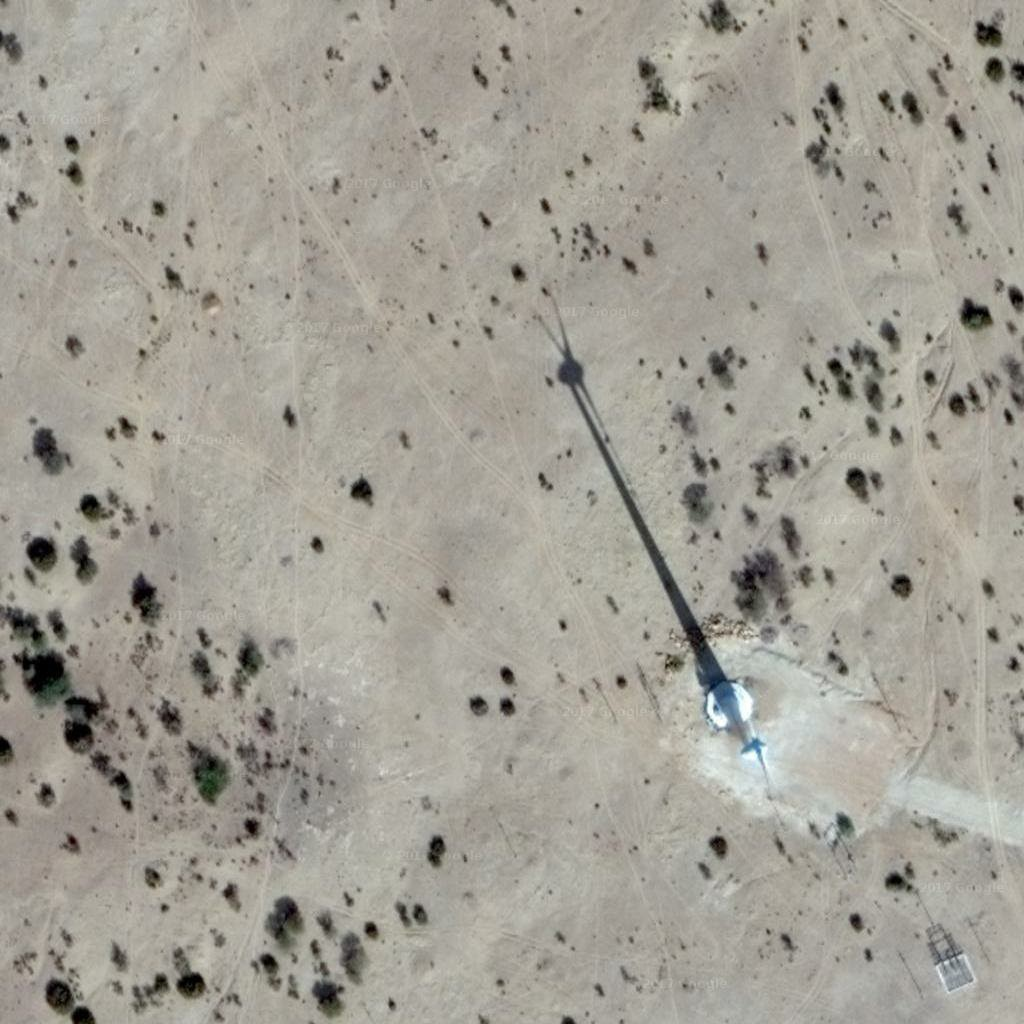Windmill: (527, 309, 727, 657)
